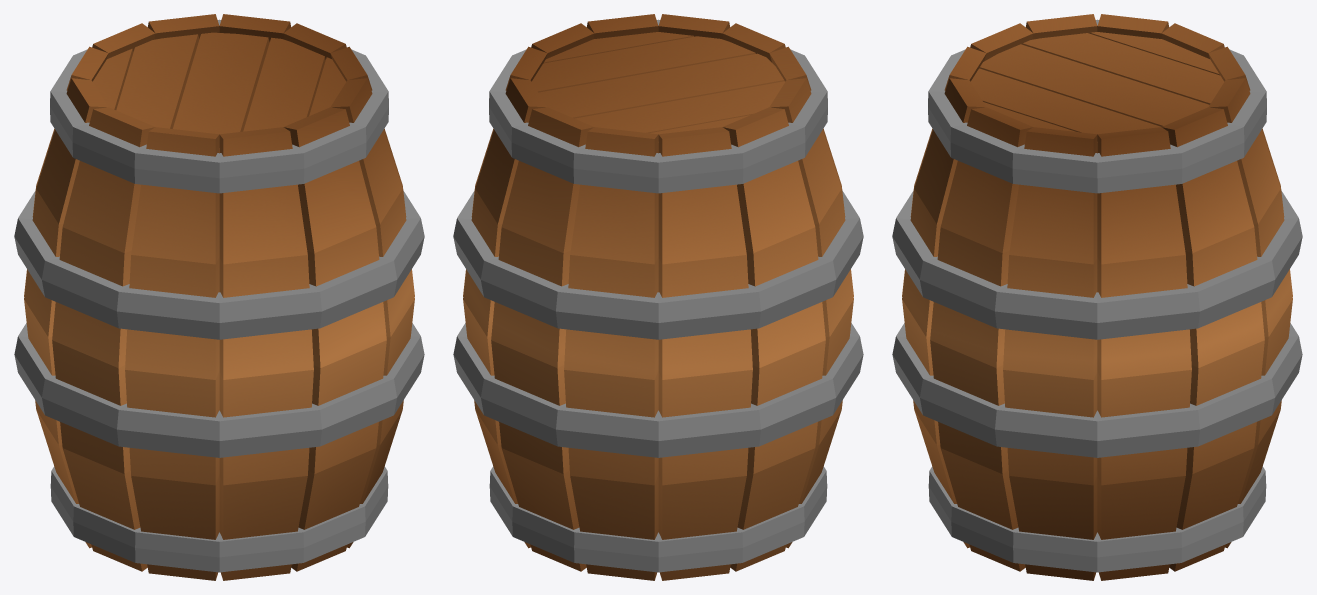
Rendered from Raven_Barrel.fbx.
3 renders of one model, left to right at view 1: azimuth 30°, elevation 25°; view 2: azimuth 150°, elevation 25°; view 3: azimuth 270°, elevation 25°, orthographic.
Visible parts, largest first — view 1: Cylinder.002, Cylinder.001; view 2: Cylinder.002, Cylinder.001; view 3: Cylinder.002, Cylinder.001.
Boxes of the visible parts, x1=… form: Cylinder.002: x1=24, y1=14, x2=414, y2=580; Cylinder.001: x1=14, y1=19, x2=424, y2=572; Cylinder.002: x1=463, y1=14, x2=853, y2=580; Cylinder.001: x1=453, y1=19, x2=863, y2=572; Cylinder.002: x1=902, y1=14, x2=1292, y2=580; Cylinder.001: x1=892, y1=19, x2=1302, y2=572.
Bounding box in the file's own units: 106 × 125 × 106.
Materials: 2 (1 with a texture image).
